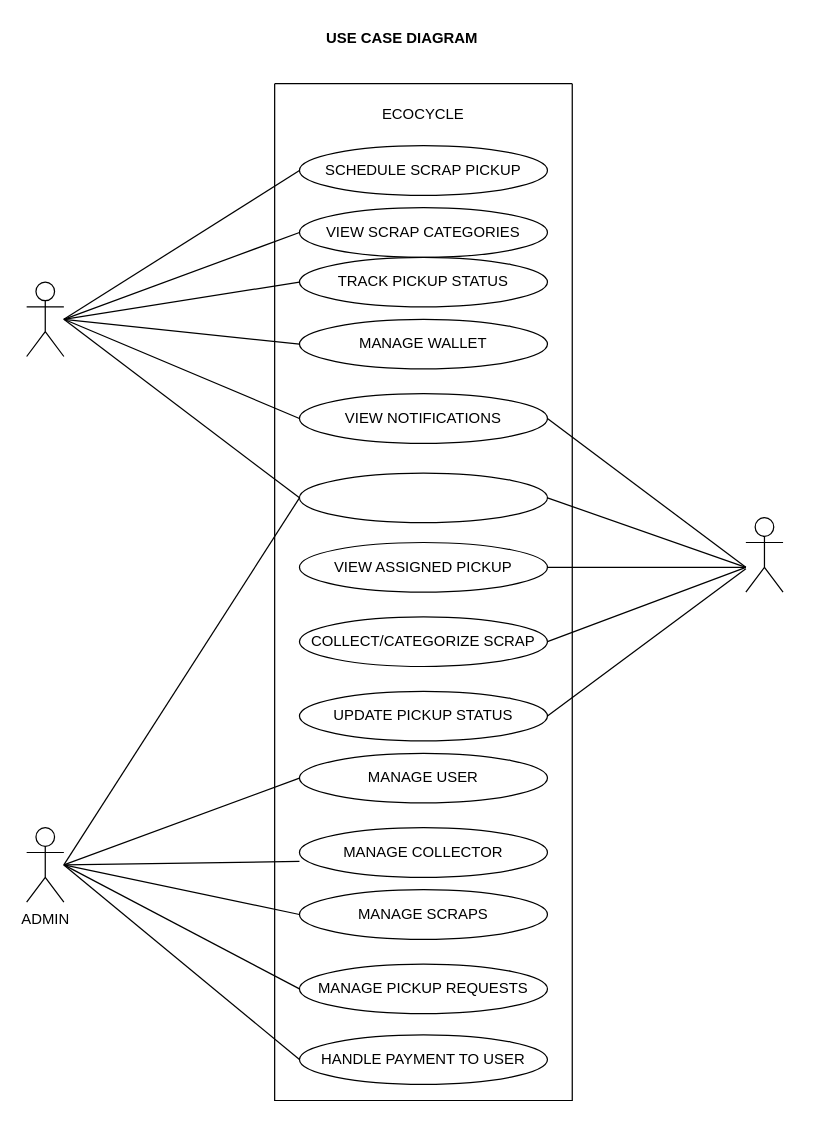
Image size: 831x1122. Some labels were removed from this diagram. The shapes that lost their labels are listed below. From the top down, each one's centre as x and y in pixels, then its label:
(44,318): USER
(422,497): LOGIN
(764,554): COLLECTOR
